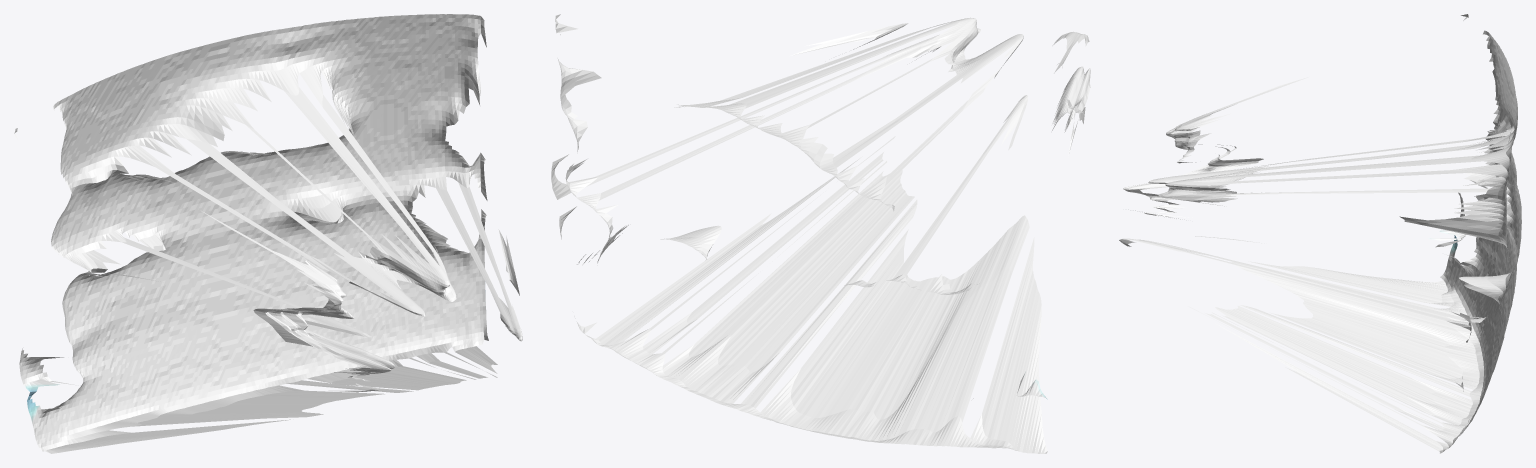
3 renders of one model, left to right at view 1: azimuth 30°, elevation 25°; view 2: azimuth 150°, elevation 25°; view 3: azimuth 270°, elevation 25°, orthographic. The views are drawn at different scales.
Visible parts, largest first — view 1: defaultobject; view 2: defaultobject; view 3: defaultobject.
Boxes of the visible parts, x1=… form: defaultobject: x1=14, y1=14, x2=522, y2=453; defaultobject: x1=551, y1=14, x2=1090, y2=453; defaultobject: x1=1119, y1=14, x2=1521, y2=453.
Size of the model in its own units: 40.36 by 27.67 by 36.29.
Materials: 1 (1 with a texture image).
